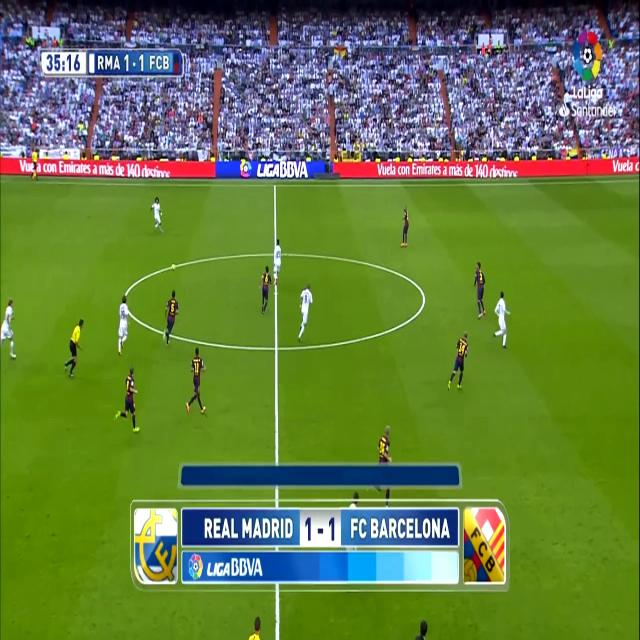bigarea_bottom_inner: (500, 572, 510, 600)
halfcircle_bottom: (270, 333, 282, 360)
halfcircle_top: (270, 244, 278, 262)
midline_top_intersection: (272, 178, 278, 192)
